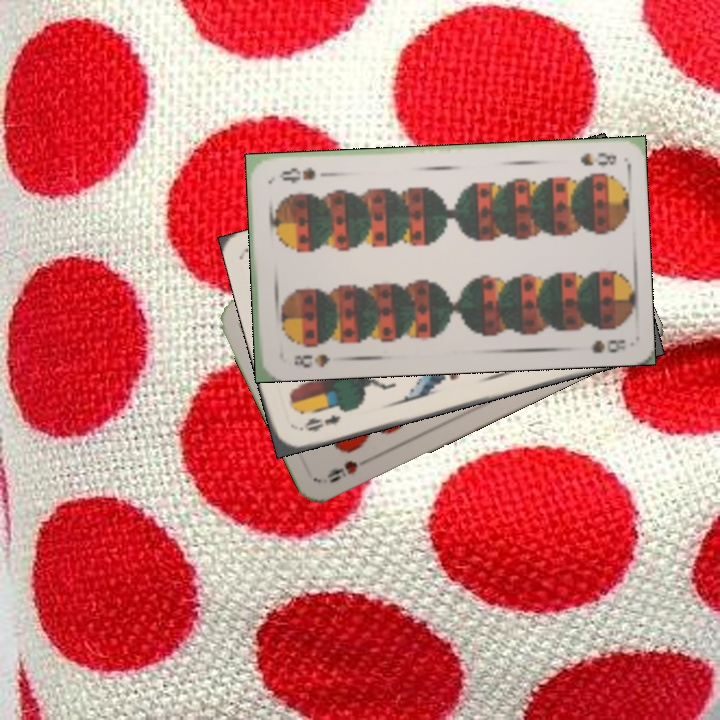EO: (300, 410, 343, 434)
H9: (322, 456, 361, 486)
S8: (289, 350, 333, 371), (577, 148, 619, 169)
